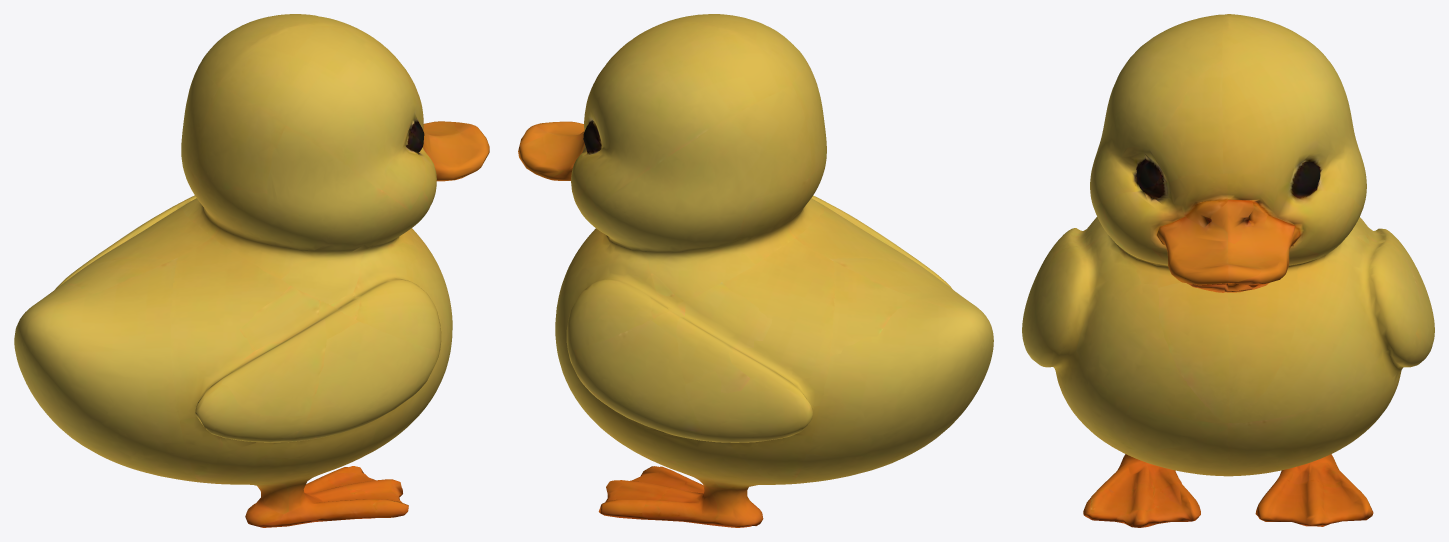
File: duck.glb
3 renders of one model, left to right at view 1: azimuth 30°, elevation 25°; view 2: azimuth 150°, elevation 25°; view 3: azimuth 270°, elevation 25°, orthographic. The views are drawn at different scales.
Visible parts, largest first — view 1: tripo_node_c74b967e-767d-45e9-a09f-d87a47bbcc23; view 2: tripo_node_c74b967e-767d-45e9-a09f-d87a47bbcc23; view 3: tripo_node_c74b967e-767d-45e9-a09f-d87a47bbcc23.
Boxes of the visible parts, bbox=[...] form: tripo_node_c74b967e-767d-45e9-a09f-d87a47bbcc23: bbox=[14, 14, 489, 527]; tripo_node_c74b967e-767d-45e9-a09f-d87a47bbcc23: bbox=[518, 14, 993, 527]; tripo_node_c74b967e-767d-45e9-a09f-d87a47bbcc23: bbox=[1022, 14, 1434, 527].
Bounding box in the file's own units: 1 × 0.9436 × 0.7494.
1 material, 1 textured.
